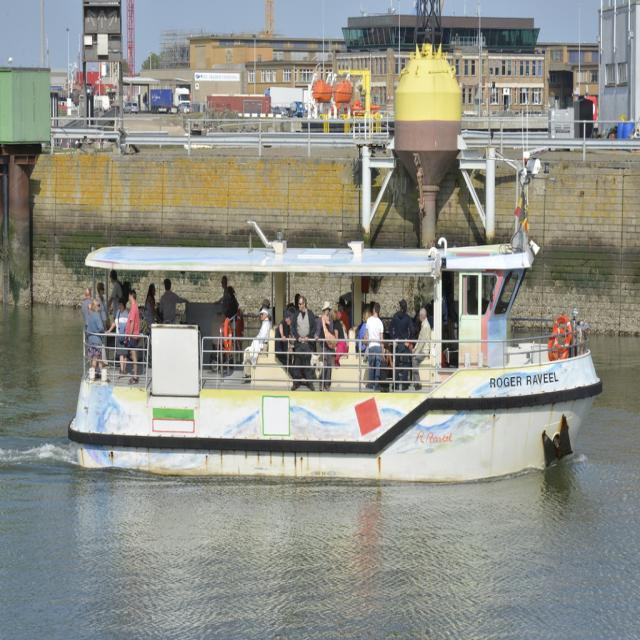Boat: (70, 130, 588, 488)
